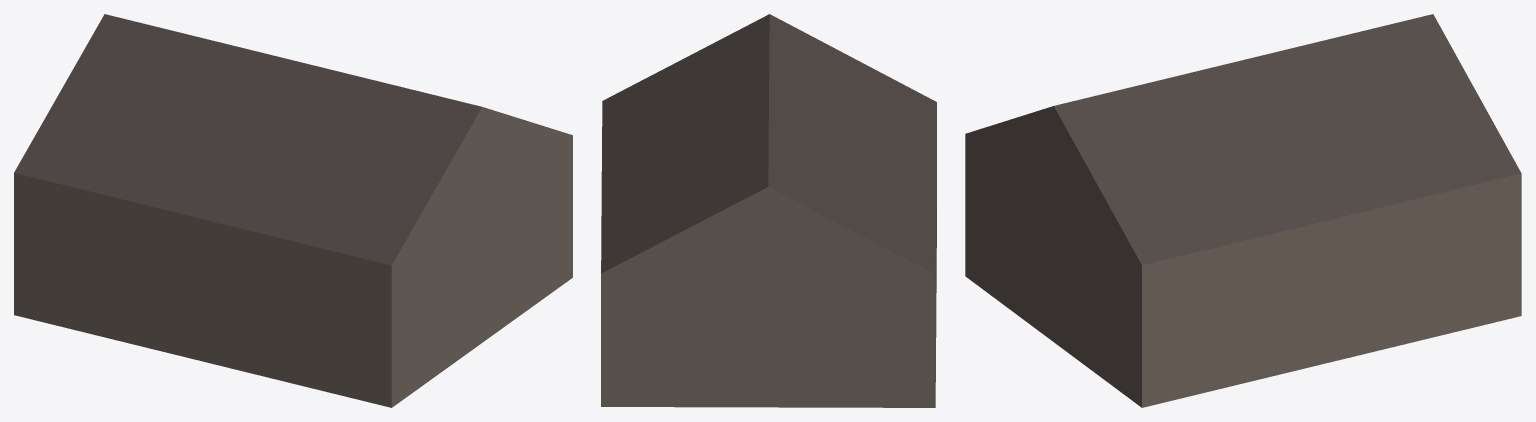
3 views of the same model, side by side, from view 1: azimuth 30°, elevation 25°; view 2: azimuth 150°, elevation 25°; view 3: azimuth 270°, elevation 25° (orthographic). The views are drawn at different scales.
Parts seen in each view (by area): view 1: HP-w859088451; view 2: HP-w859088451; view 3: HP-w859088451.
Part boxes in pixels (x1=…): HP-w859088451: x1=14, y1=14, x2=572, y2=407; HP-w859088451: x1=601, y1=14, x2=936, y2=407; HP-w859088451: x1=965, y1=14, x2=1521, y2=407.
Size of the model in its own units: 20.18 by 9.94 by 21.22.
